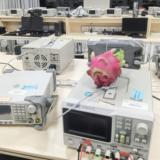pitaya: (88, 48, 125, 86)
